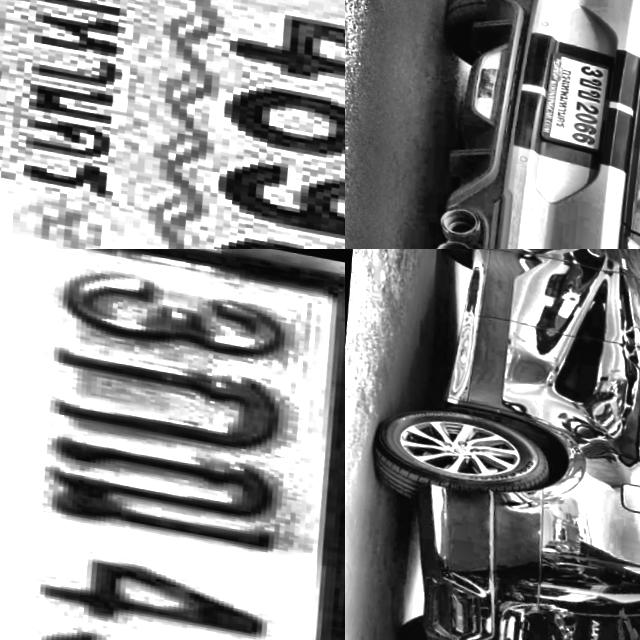license-plate: (0, 249, 345, 640), (0, 0, 345, 249), (530, 44, 617, 154)
